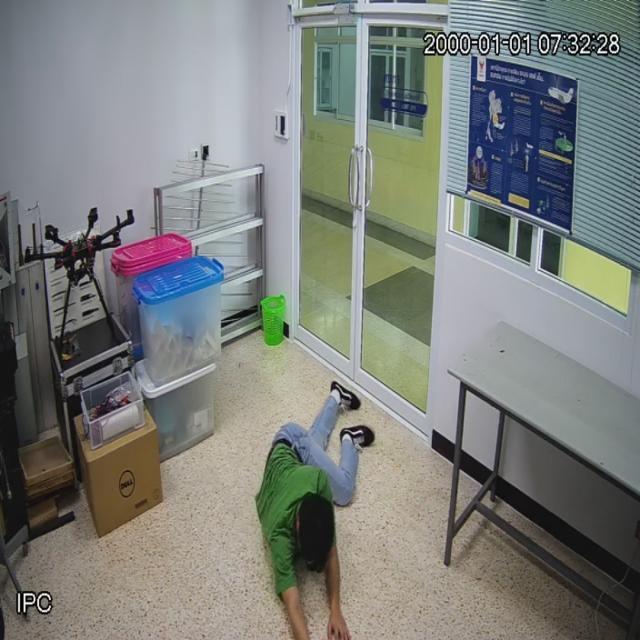fall: (256, 380, 372, 640)
